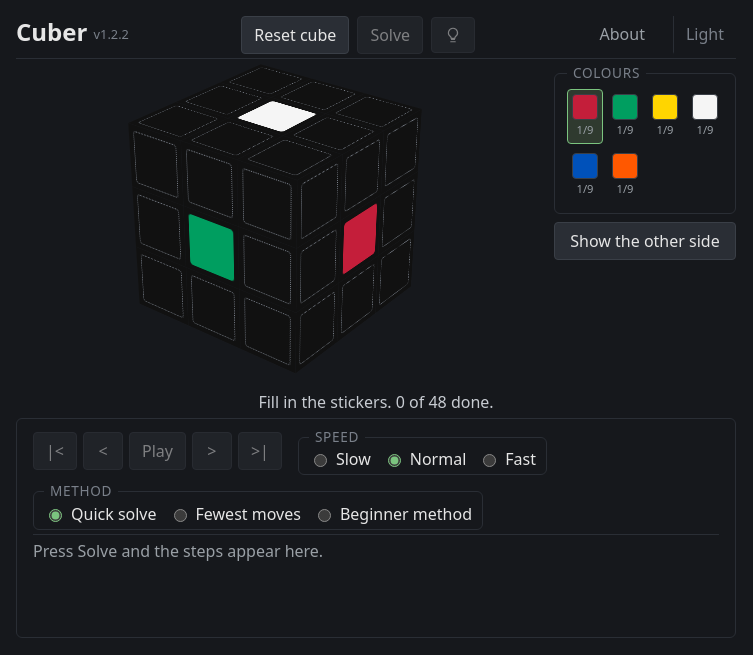
it: validation on screen › says a piece cannot have two opposite colours
This screenshot has width=753, height=655.
Click the button named "white": (705, 117) [687,89,723,144]
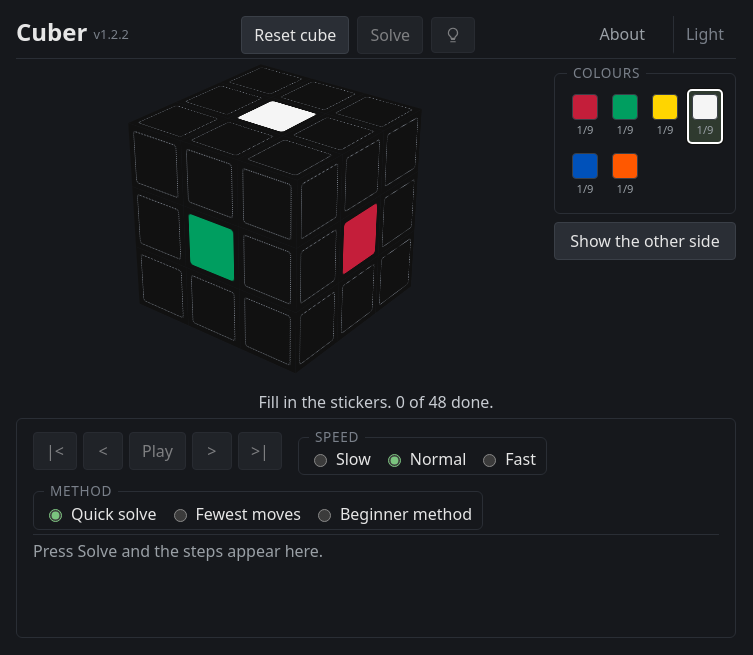
Click the button named "the top face, row 3, column 3, blank": (290, 157) [237,135,342,180]
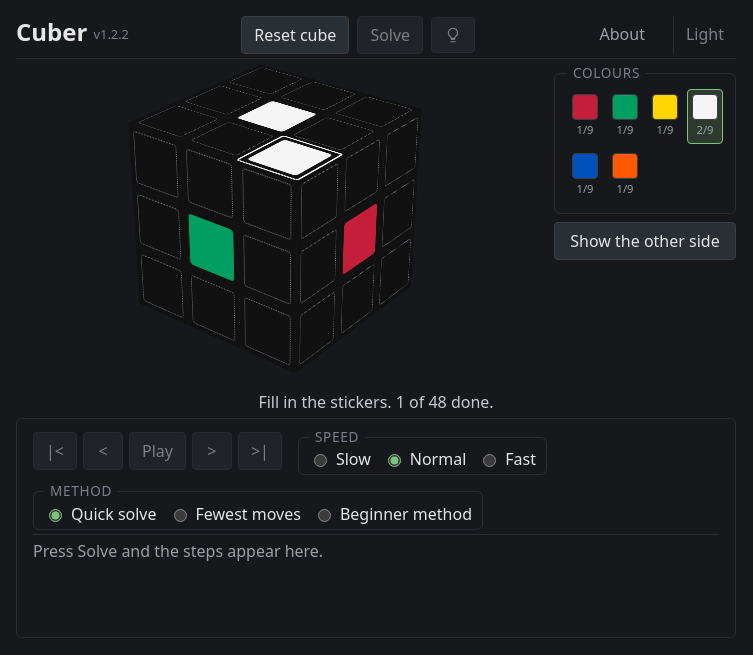
Click the button named "yellow": (665, 117) [647,89,683,144]
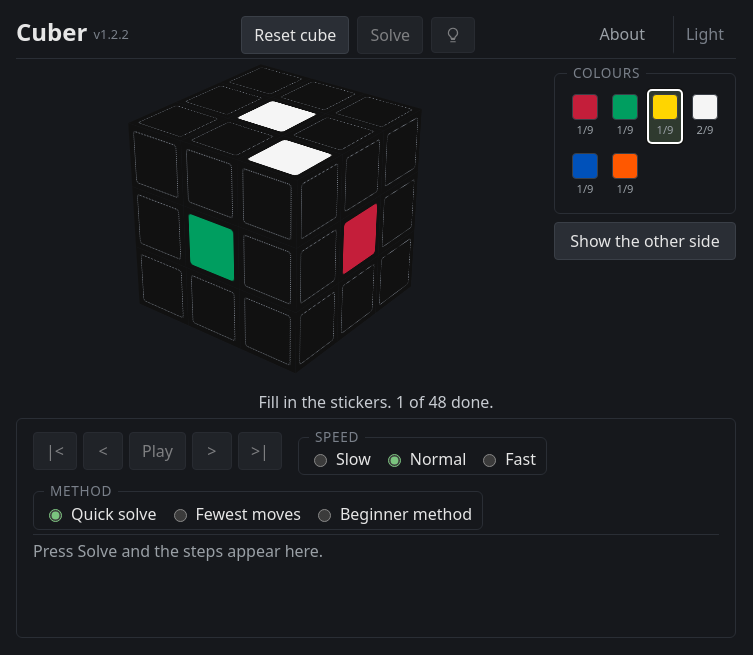
Click the button named "the right face, row 1, column 1, blank": (320, 201) [297,154,342,248]
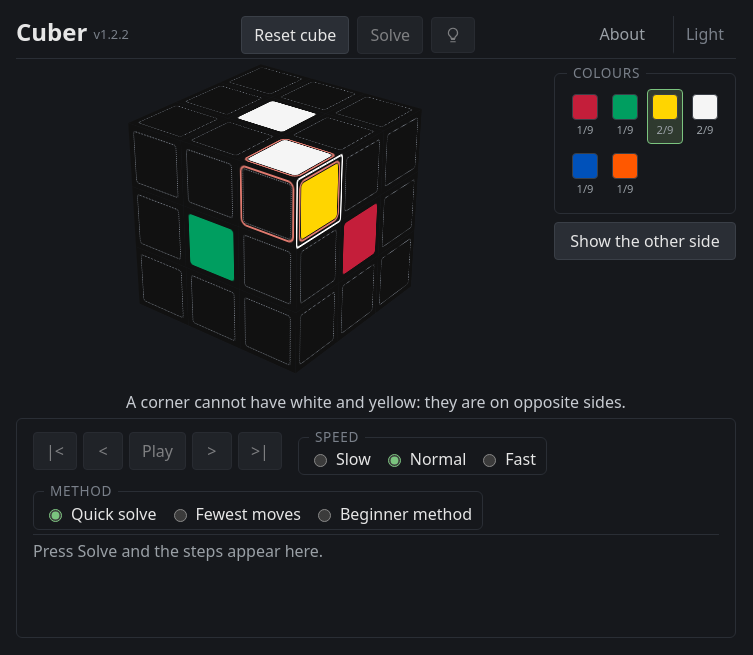
Result: the message reads "A corner cannot have white and yellow: they are on opposite sides." at [126,391,626,413]
